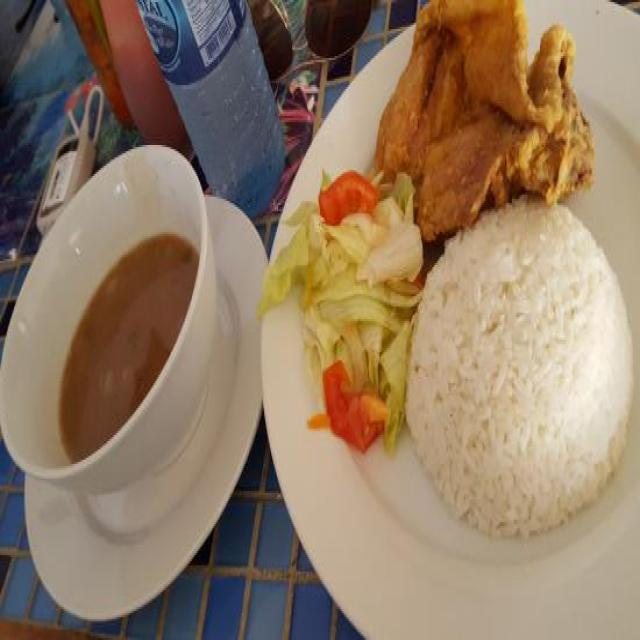Frango: (369, 0, 596, 238)
